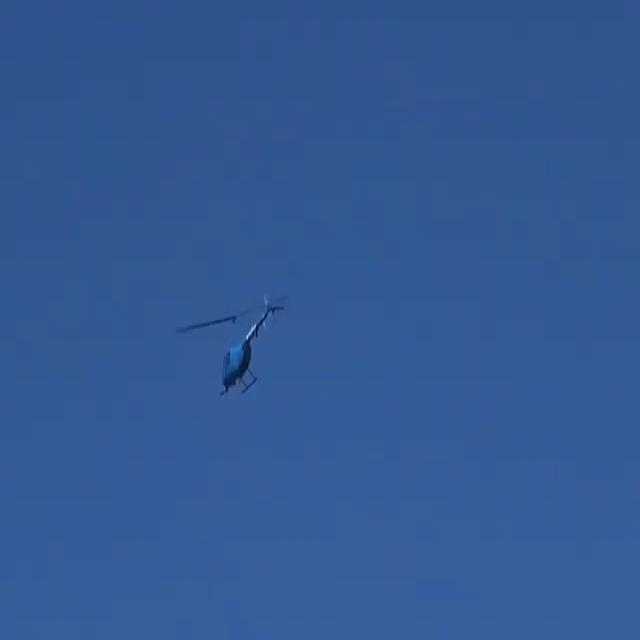Helicopter: (176, 288, 300, 410)
